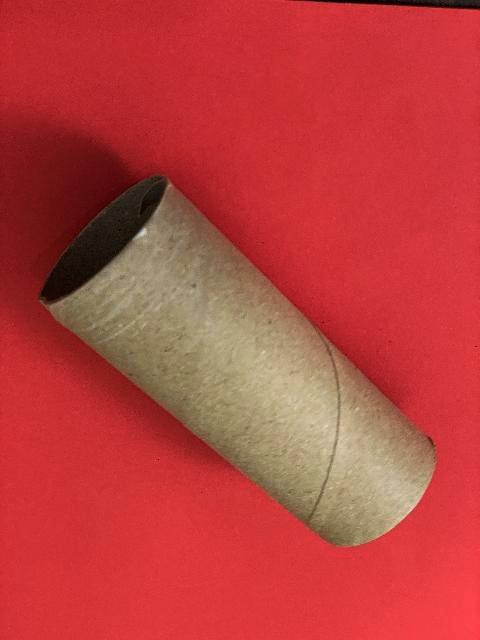tissueroll: (39, 176, 436, 548)
